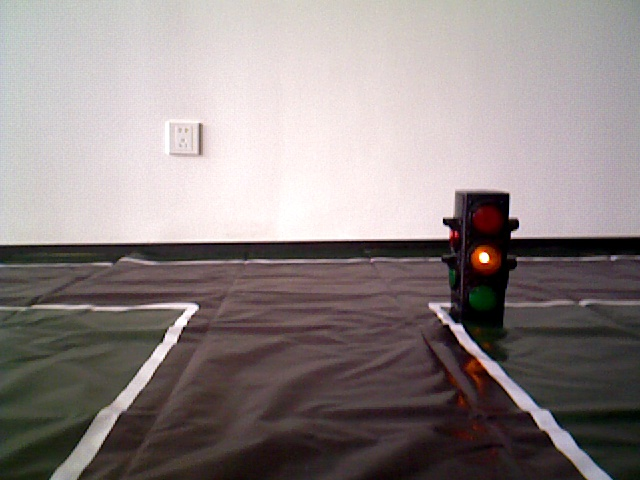yellow: (455, 188, 511, 314)
